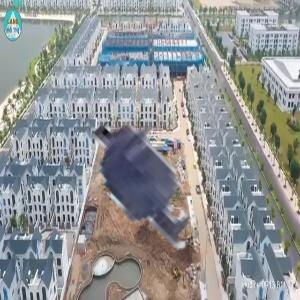drone: (31, 67, 251, 287)
